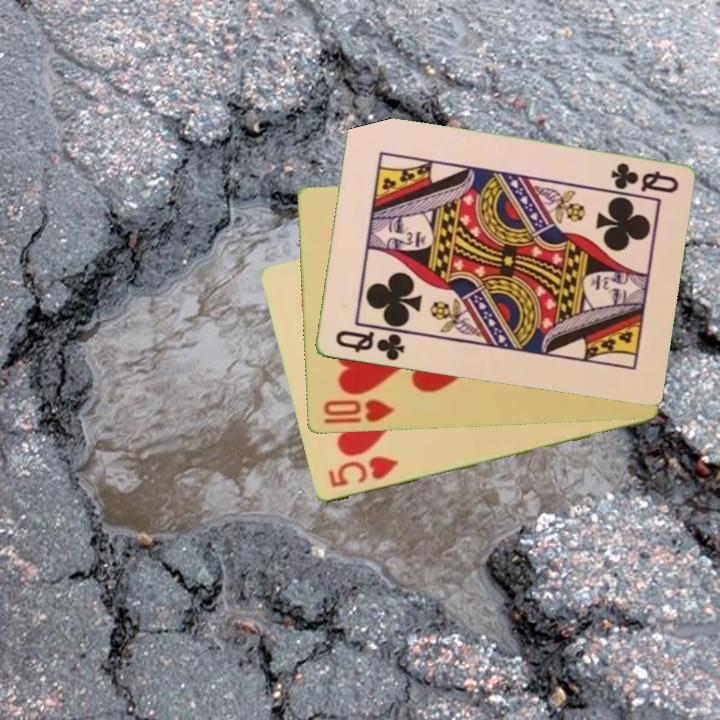10h: (319, 396, 396, 426)
5h: (324, 453, 401, 491)
Qc: (606, 159, 682, 197), (331, 327, 407, 364)
